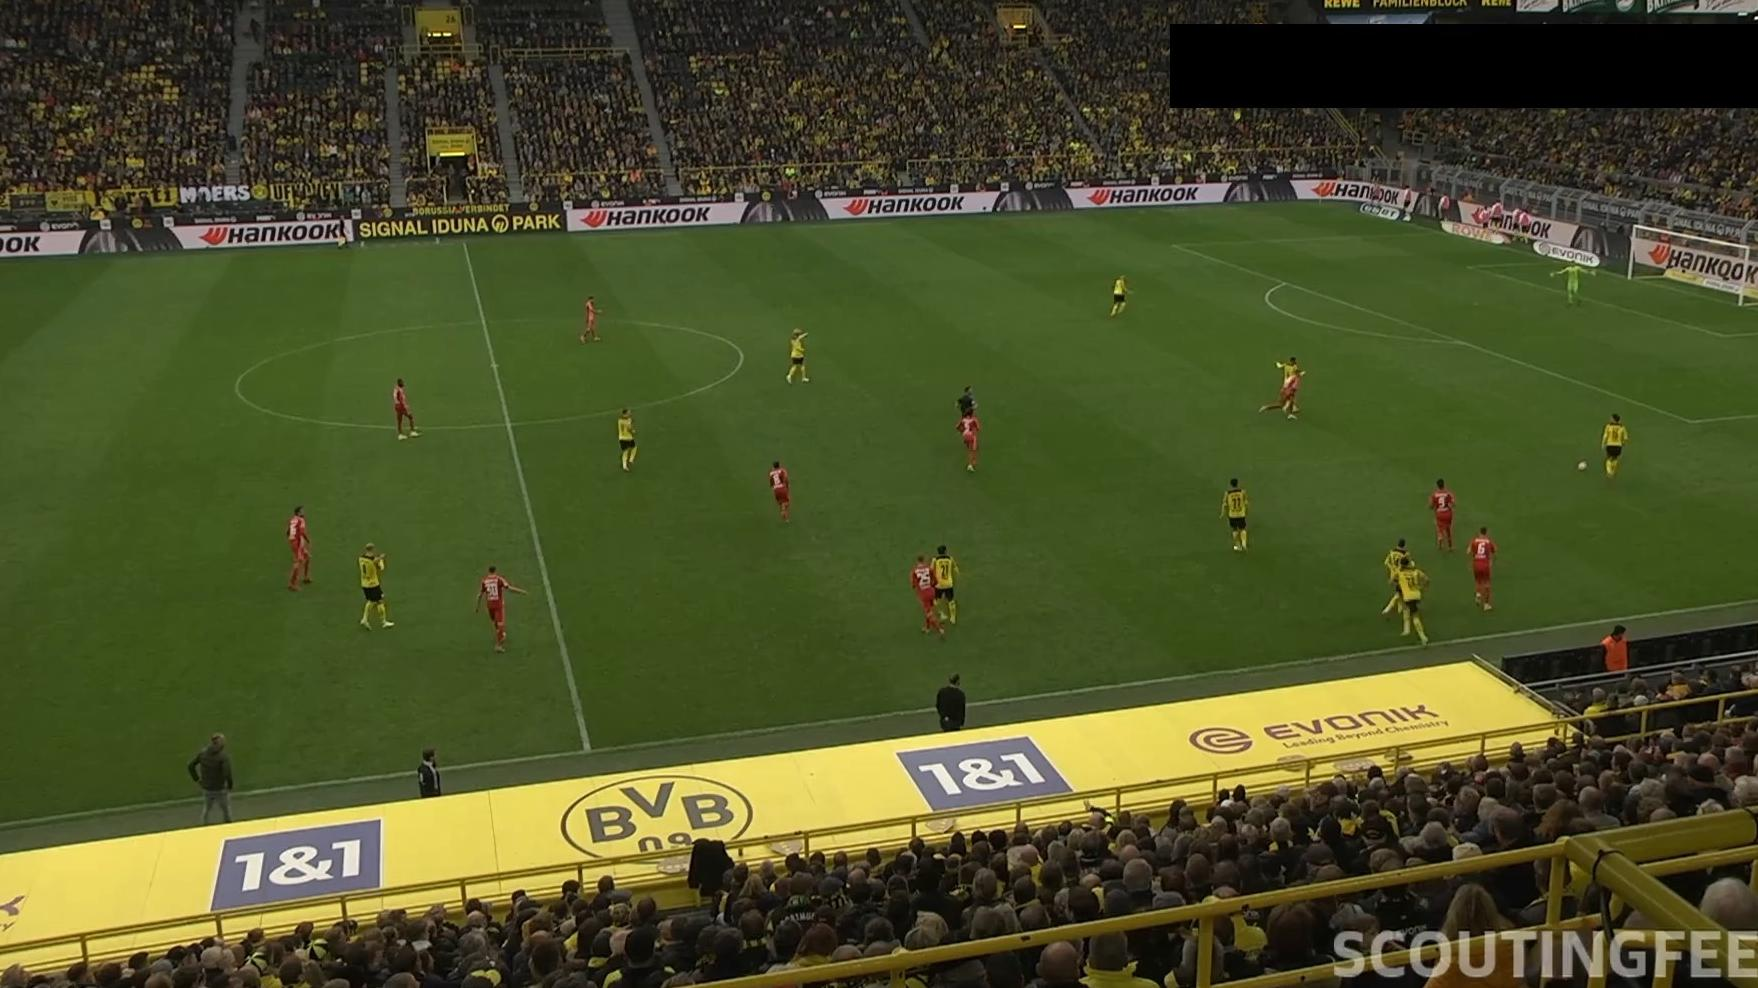ball: (1577, 459, 1589, 471)
